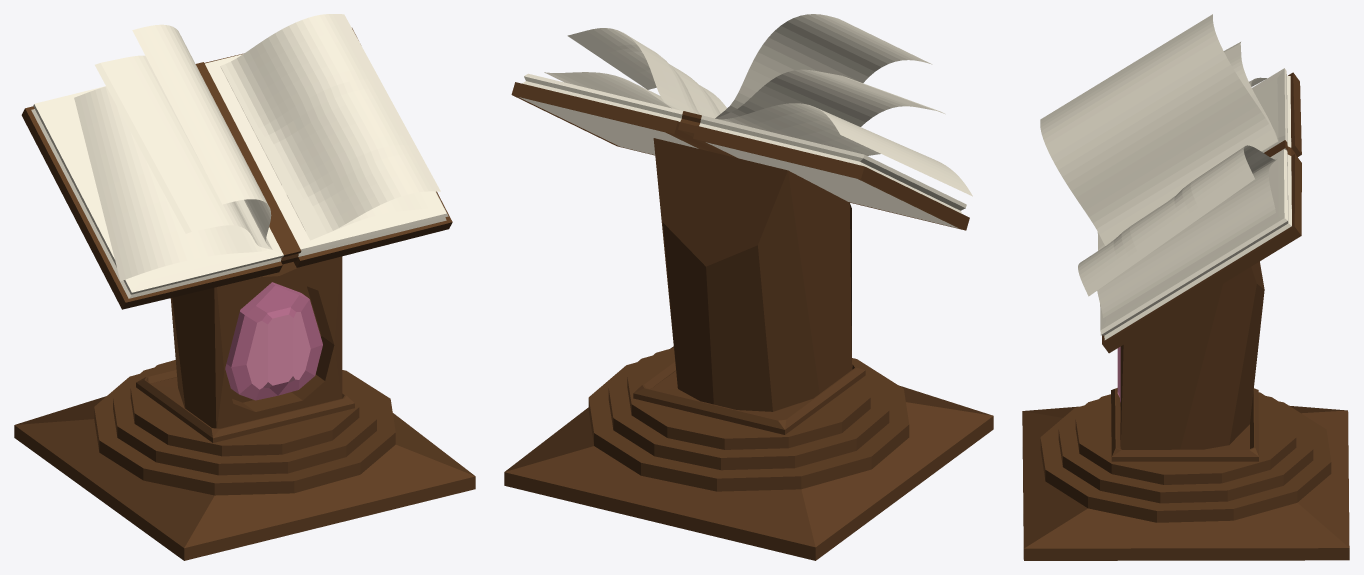
File: BOOKSTATUE.fbx
The picture shows the model from 3 angles, left to right: view 1: azimuth 30°, elevation 25°; view 2: azimuth 150°, elevation 25°; view 3: azimuth 270°, elevation 25°; orthographic projection. The views are drawn at different scales.
Visible parts, largest first — view 1: Cube.075; view 2: Cube.075; view 3: Cube.075.
Part boxes in pixels (bbox=[...]): Cube.075: bbox=[14, 14, 475, 560]; Cube.075: bbox=[504, 14, 993, 560]; Cube.075: bbox=[1022, 14, 1349, 560].
Size of the model in its own units: 332 by 428 by 294.
